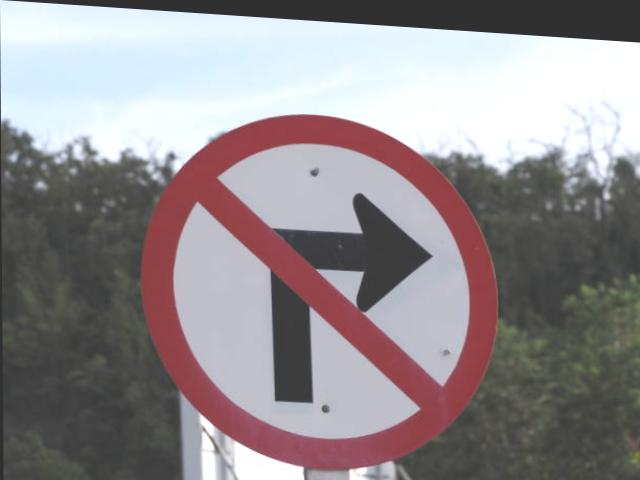not_turn_right: (140, 93, 501, 476)
